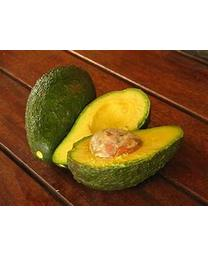avocado: (52, 87, 187, 192), (24, 64, 98, 162)
